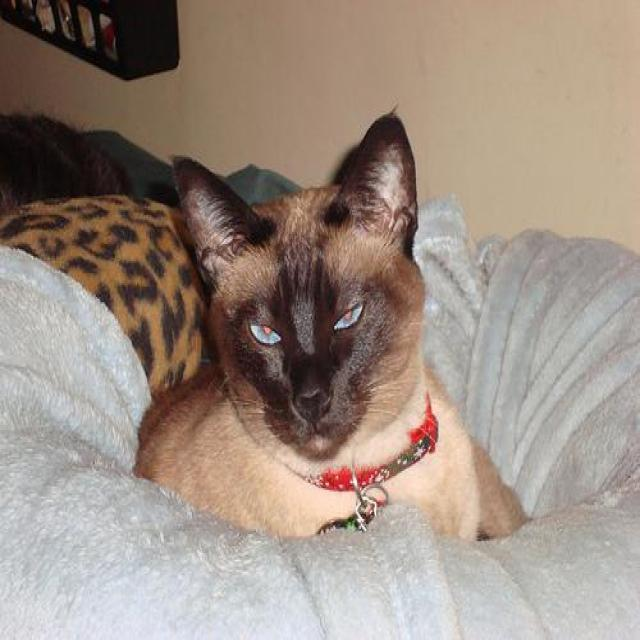cat: (133, 108, 529, 540)
